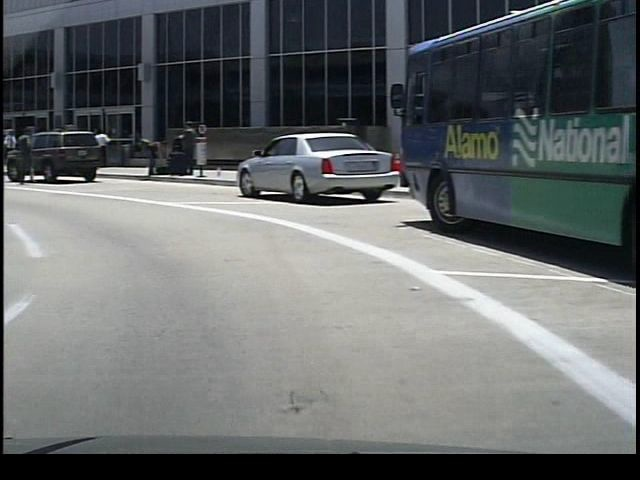person: (12, 118, 41, 192), (135, 129, 164, 184), (172, 121, 193, 177), (89, 126, 110, 167)
